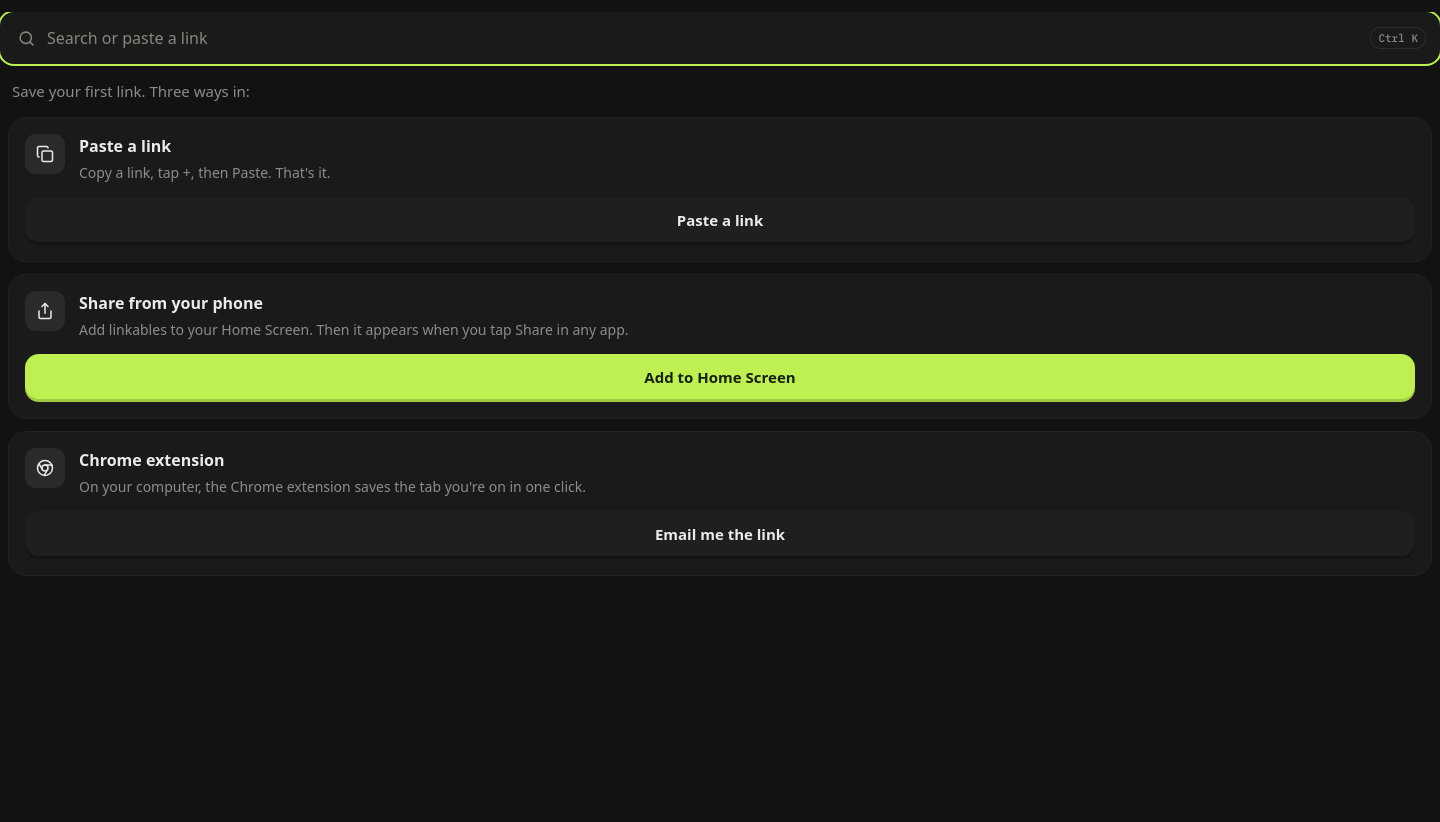
Test: SaveBar › puts a link the API rejects back in the bar with the reason
The image size is (1440, 822).
Type "https://example.com/x" into the field named "Search or paste a link". click: (703, 38)
box: [47, 12, 1358, 64]
Then press Enter
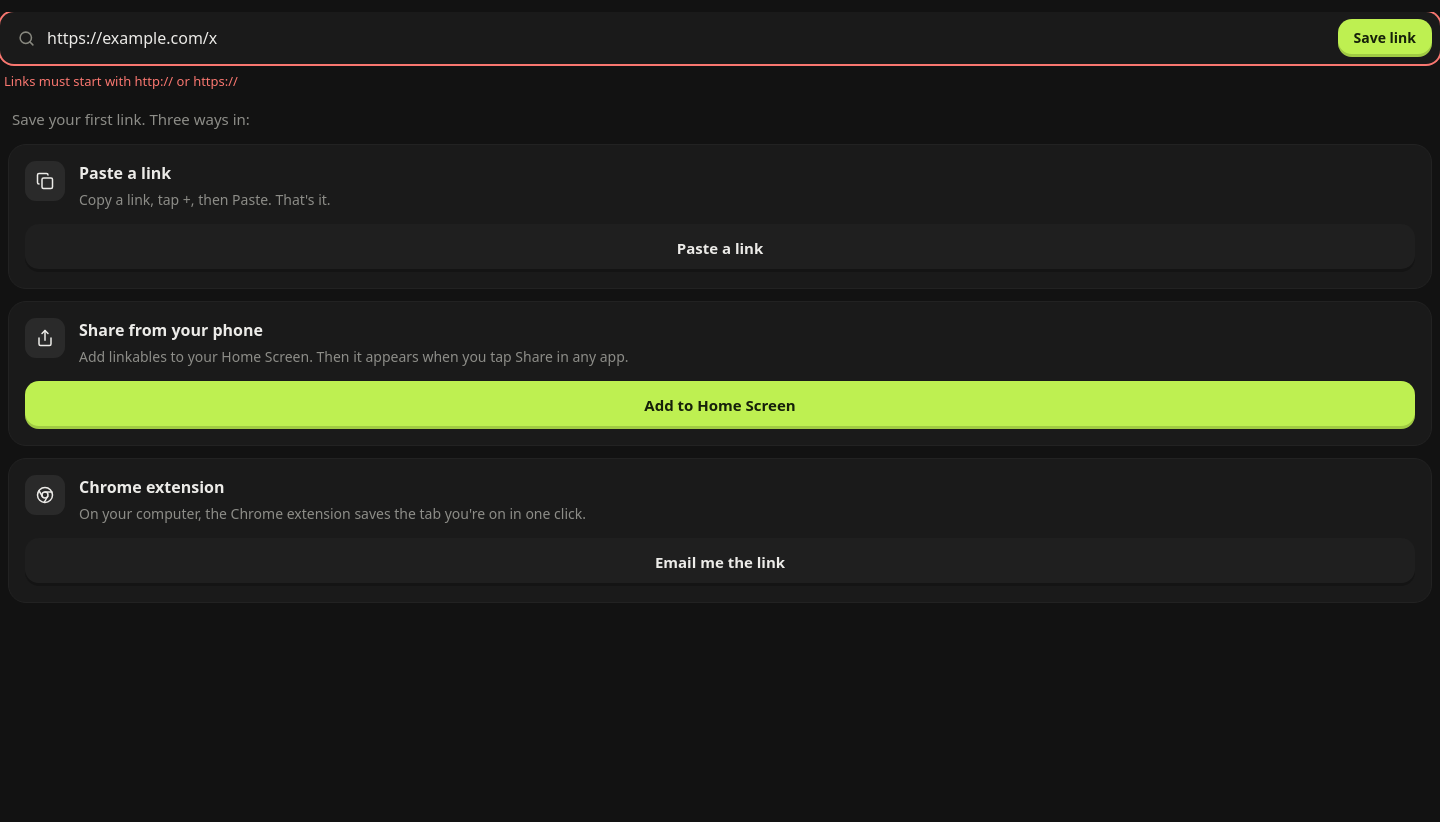
Result: the message reads "Links must start with http:// or https://" at [4, 72, 238, 90]
